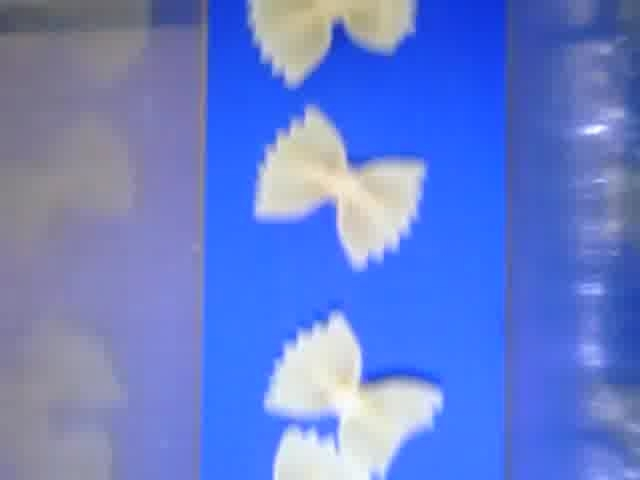farfalle: (254, 105, 428, 271), (268, 311, 445, 470), (247, 1, 416, 90), (271, 426, 374, 480)
